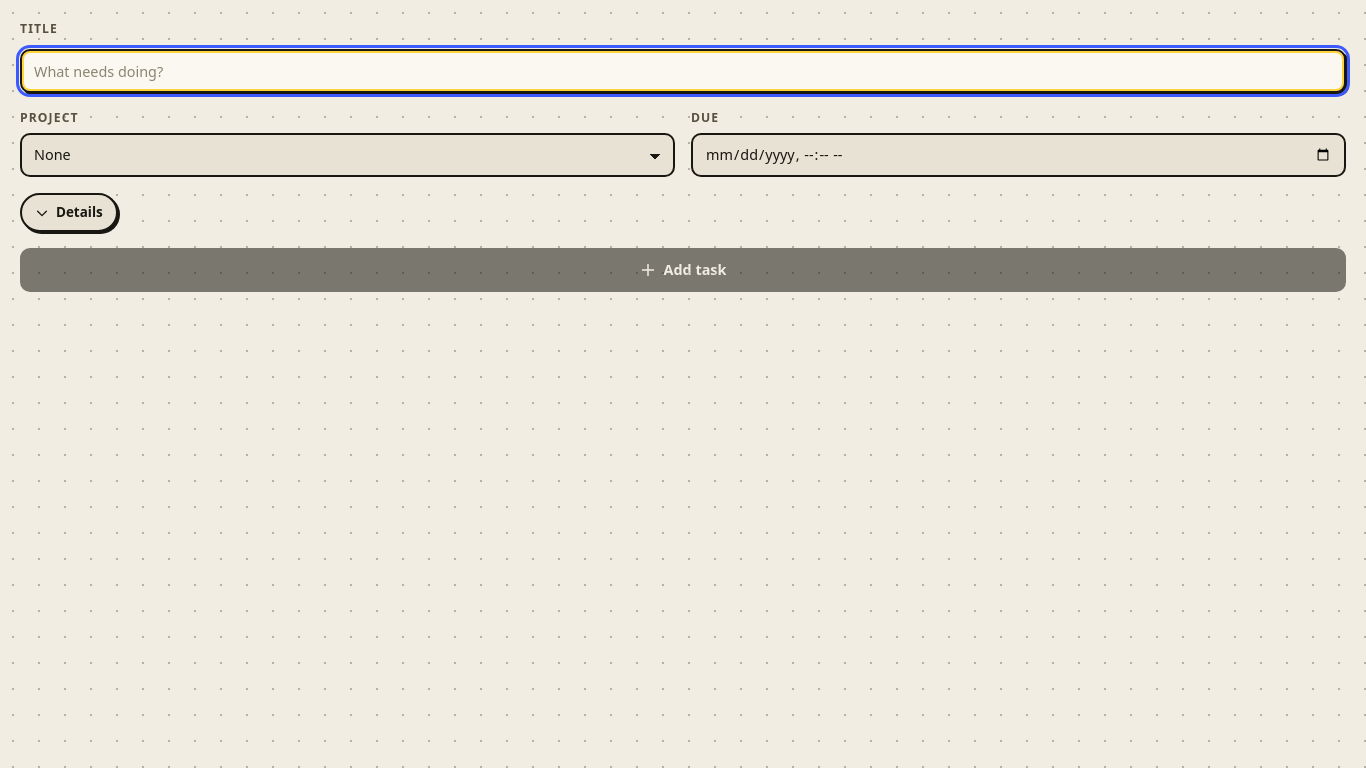
Test: planner UI components › keeps quick capture disabled until a title is entered
This screenshot has width=1366, height=768.
Expected: the button "Add task" is disabled, [20,248,1346,292]
Type "Write research outline" into the field labelled "Title". click: (683, 71)
box: [20,49,1346,93]
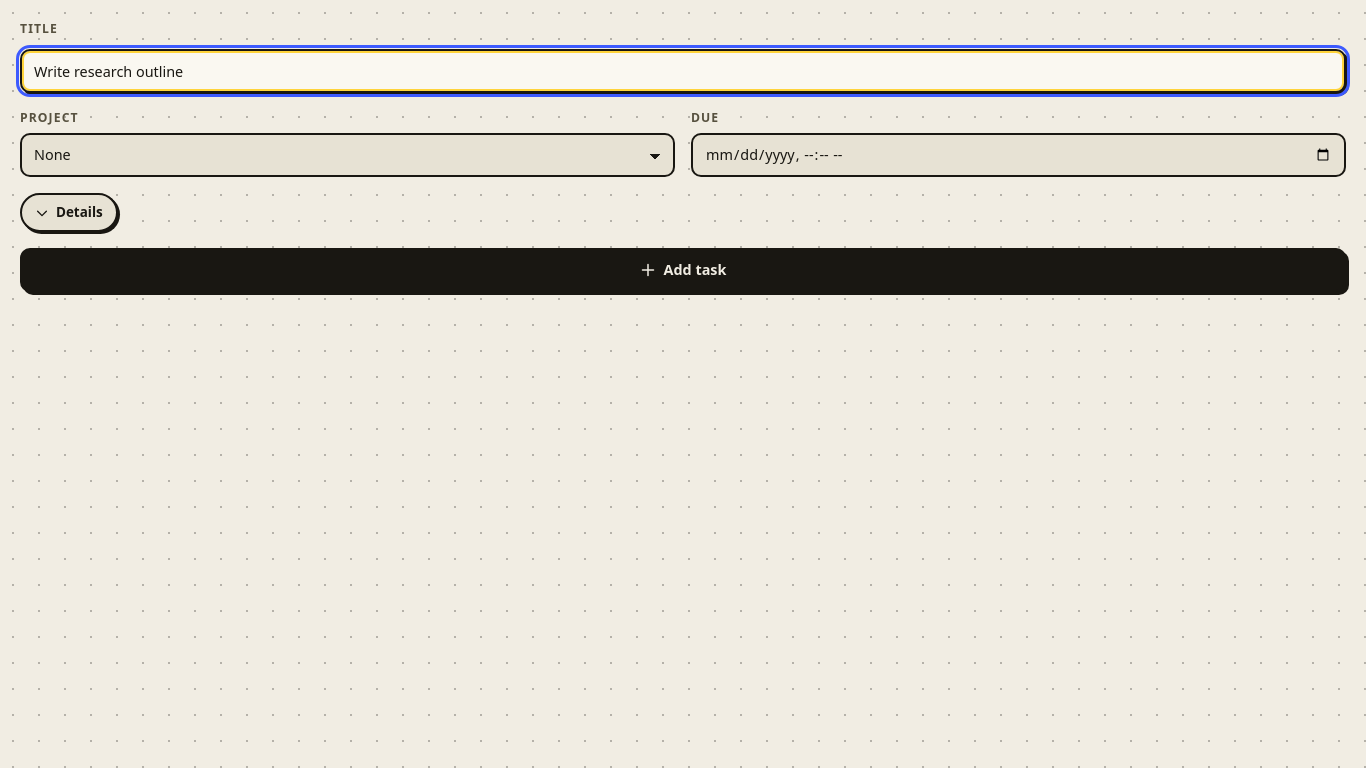
Now the button "Add task" is enabled, box [20,248,1346,292]
